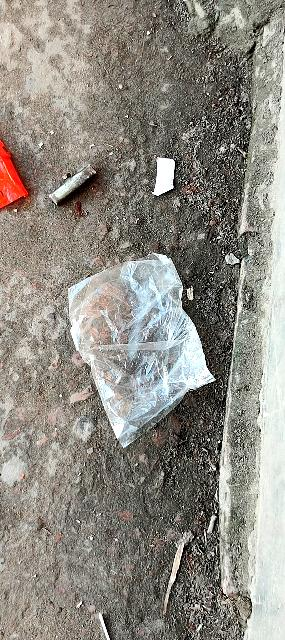polythene: (48, 241, 240, 461)
